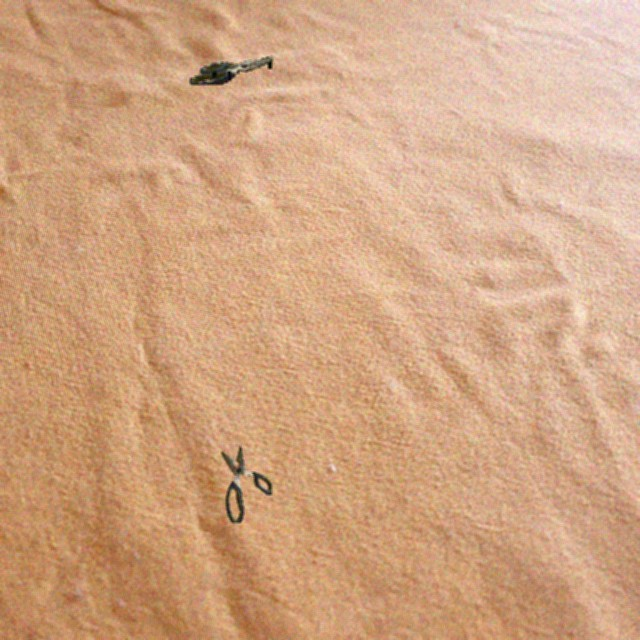scissors: (221, 445, 272, 523), (189, 56, 273, 85)
